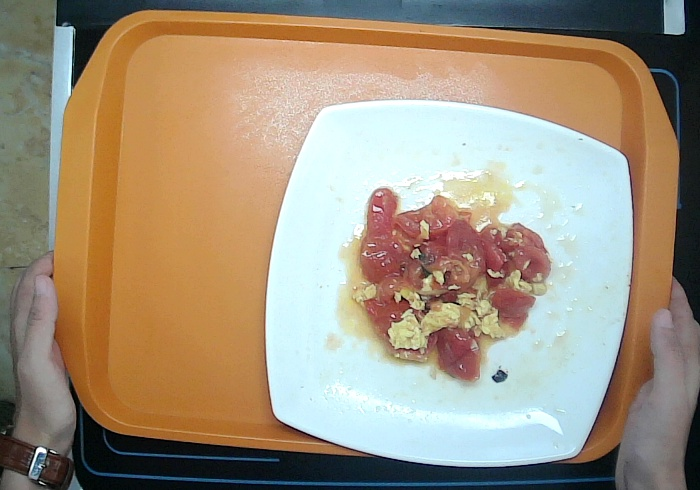ZNLD-Bai_Fang_Pan: (263, 100, 633, 472)
